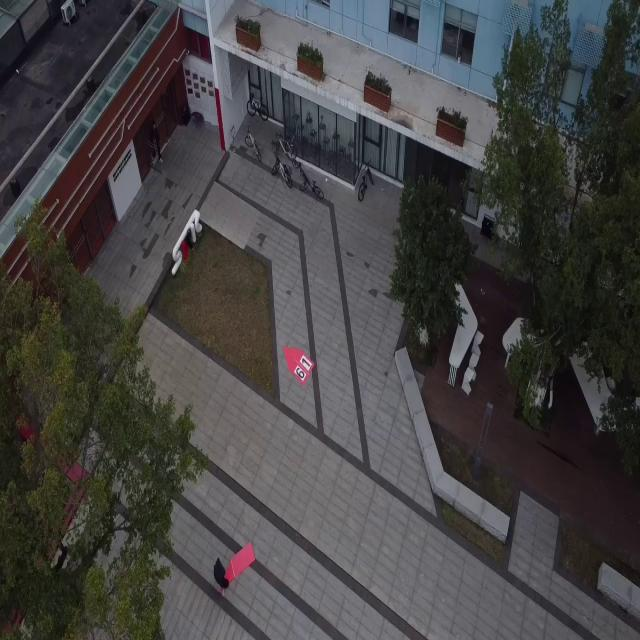-sign-: (282, 345, 314, 387)
